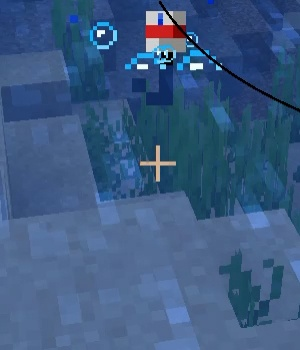up: (130, 4, 194, 108)
